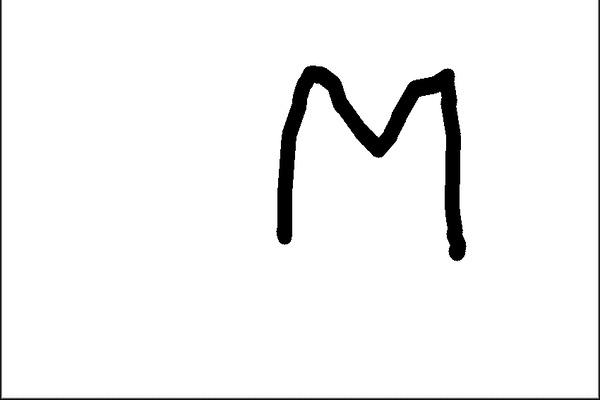M: (272, 58, 473, 261)
